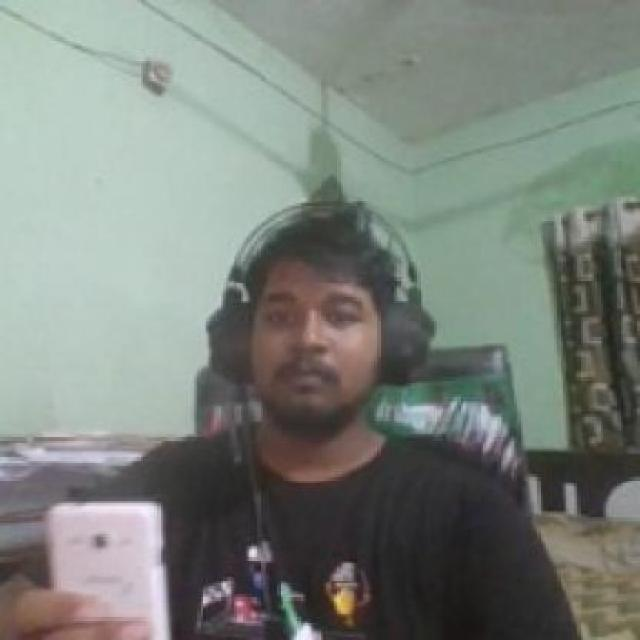Phone: (49, 502, 167, 640)
